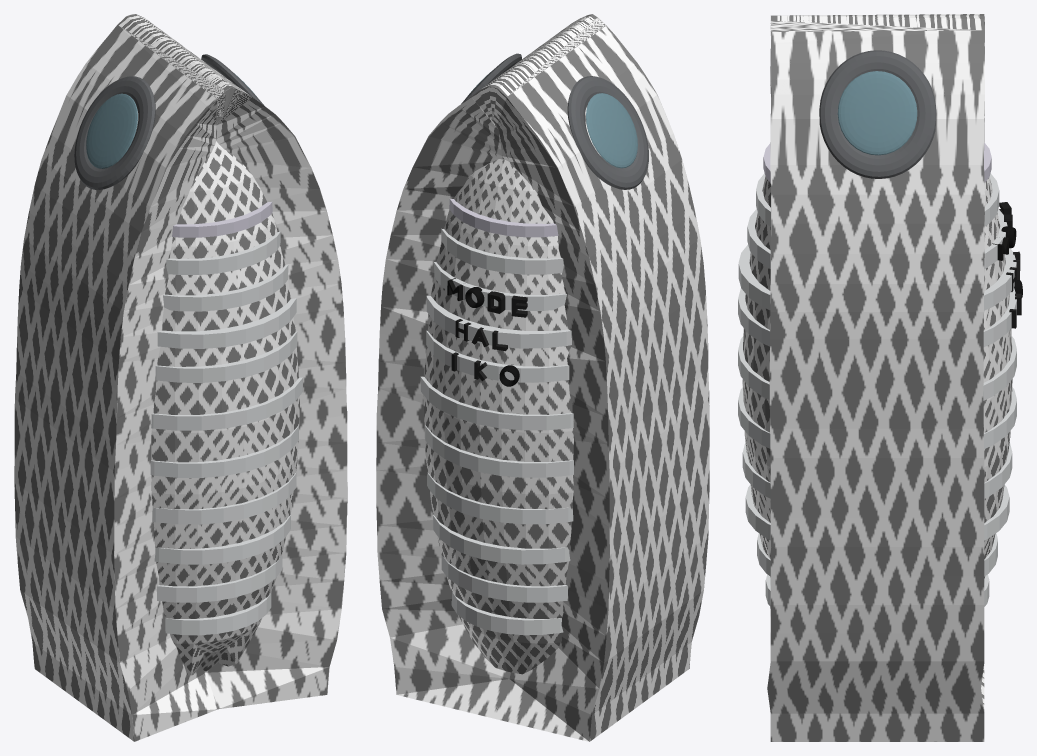
Rendered from HAL.fbx.
The picture shows the model from 3 angles, left to right: view 1: azimuth 30°, elevation 25°; view 2: azimuth 150°, elevation 25°; view 3: azimuth 270°, elevation 25°; orthographic projection. The views are drawn at different scales.
Parts seen in each view (by area): view 1: 立方体, 球, 円柱.003, 円柱.005, 円柱.006, 円柱.004, 円柱.007, 円柱.008, 円柱.002, 円柱.009, 円柱.001, 円柱.010 (+2 smaller); view 2: 立方体, 球, 円柱.005, 円柱.006, 円柱.003, 立方体.1906, 円柱.007, 円柱.008, 円柱.009, 円柱.001, 円柱.004, 円柱.010 (+3 smaller); view 3: 立方体, 球.001, 円柱.003, 円柱.005, 円柱.004, 円柱.006, 立方体.1906, 円柱.008, 円柱.007, 円柱.002, 円柱.001, 円柱.009 (+1 smaller).
Part boxes in pixels (bbox=[...]): 立方体: bbox=[14, 14, 347, 741]; 球: bbox=[74, 76, 155, 189]; 円柱.003: bbox=[157, 298, 296, 348]; 円柱.005: bbox=[151, 377, 302, 430]; 円柱.006: bbox=[150, 425, 298, 477]; 円柱.004: bbox=[155, 331, 297, 382]; 円柱.007: bbox=[152, 473, 296, 524]; 円柱.008: bbox=[154, 514, 290, 564]; 円柱.002: bbox=[163, 265, 288, 311]; 円柱.009: bbox=[156, 556, 282, 602]; 円柱.001: bbox=[166, 231, 280, 274]; 円柱.010: bbox=[165, 593, 271, 635]; 立方体: bbox=[376, 14, 709, 741]; 球: bbox=[567, 76, 648, 189]; 円柱.005: bbox=[420, 376, 573, 430]; 円柱.006: bbox=[424, 425, 573, 477]; 円柱.003: bbox=[426, 295, 571, 348]; 立方体.1906: bbox=[447, 278, 527, 386]; 円柱.007: bbox=[427, 472, 573, 524]; 円柱.008: bbox=[432, 514, 570, 564]; 円柱.009: bbox=[441, 555, 567, 602]; 円柱.001: bbox=[441, 228, 563, 274]; 円柱.004: bbox=[426, 330, 569, 382]; 円柱.010: bbox=[451, 592, 563, 635]; 立方体: bbox=[742, 14, 1012, 741]; 球.001: bbox=[819, 50, 936, 178]; 円柱.003: bbox=[738, 244, 1016, 310]; 円柱.005: bbox=[738, 336, 1016, 400]; 円柱.004: bbox=[738, 288, 1016, 346]; 円柱.006: bbox=[738, 387, 1016, 449]; 立方体.1906: bbox=[992, 202, 1022, 328]; 円柱.008: bbox=[745, 485, 1009, 540]; 円柱.007: bbox=[742, 442, 1012, 498]; 円柱.002: bbox=[747, 209, 1007, 268]; 円柱.001: bbox=[756, 173, 999, 226]; 円柱.009: bbox=[757, 533, 997, 576].
Size of the model in its own units: 81.05 by 209 by 79.95.
Materials: 40 (1 with a texture image).
